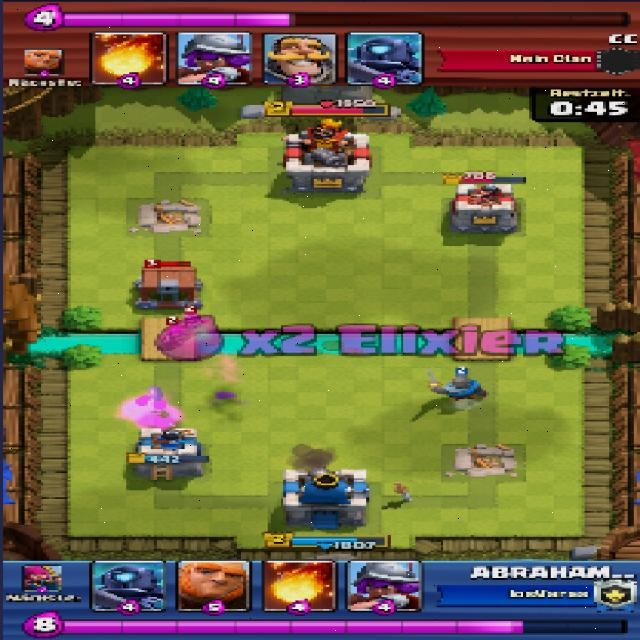Enemy-Archer: (156, 324, 190, 346), (174, 309, 202, 332)
Player-GoblinCage: (127, 262, 204, 313)
Player-Knight: (425, 374, 490, 403)
